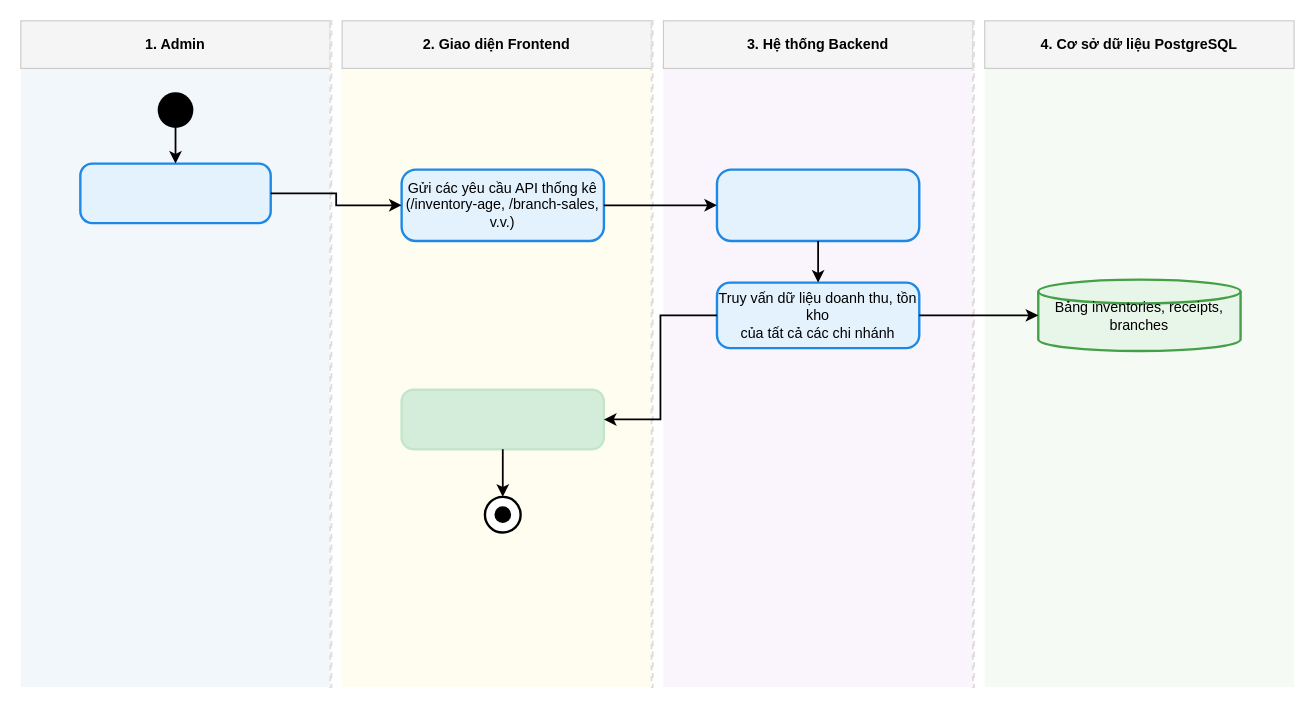
Some shapes in this 1315 by 709 pixel diagram are drawn without their labels. The shapes that lost their labels are listed below. From the top down, each one's centre as x and y in pixels, then its label:
(175,193): Truy cập trang Tổng quan (Dashboard)
(817,205): Xác thực token và phân quyền ADMIN. Bỏ qua lọc chi nhánh con (xem toàn cục)
(502,419): Nhận dữ liệu, vẽ biểu đồ tương tác qua ECharts
